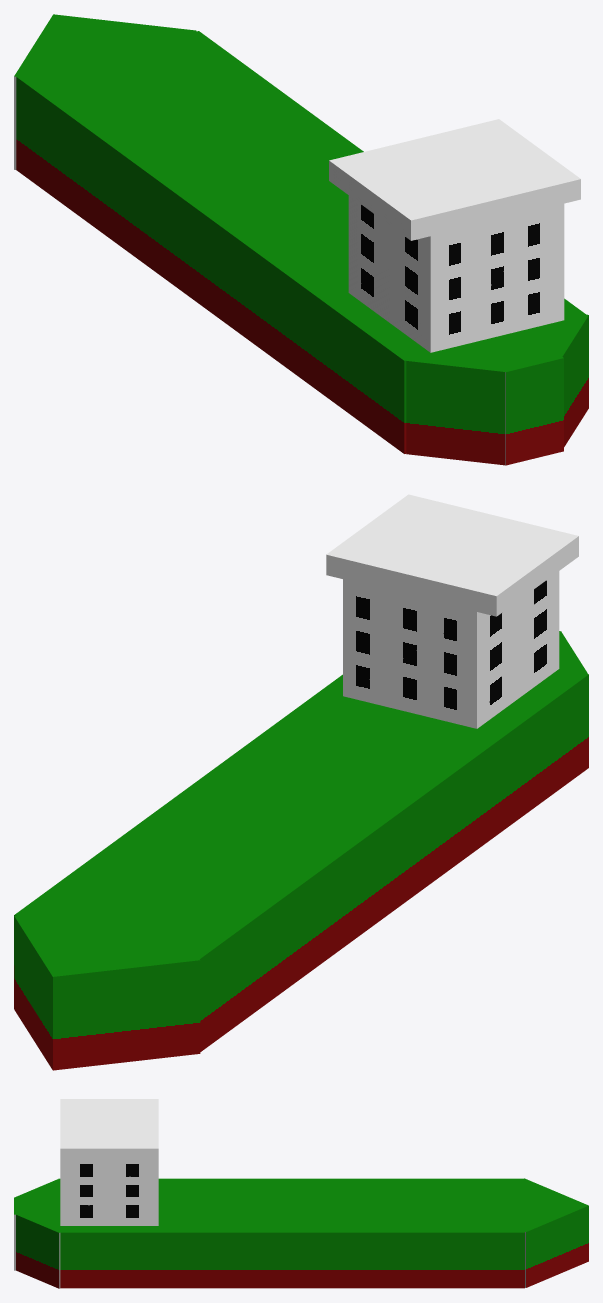
The model's file is cargoship.obj.
3 renders of one model, top to bottom at view 1: azimuth 30°, elevation 25°; view 2: azimuth 150°, elevation 25°; view 3: azimuth 270°, elevation 25°, orthographic. The views are drawn at different scales.
Visible parts, largest first — view 1: cube; view 2: cube; view 3: cube.
Part boxes in pixels (x1=…): cube: x1=14, y1=14, x2=588, y2=465; cube: x1=14, y1=494, x2=588, y2=1070; cube: x1=14, y1=1099, x2=588, y2=1288.
Bounding box in the file's own units: 2.1 × 2.47 × 9.32.
2 materials, 1 textured.
